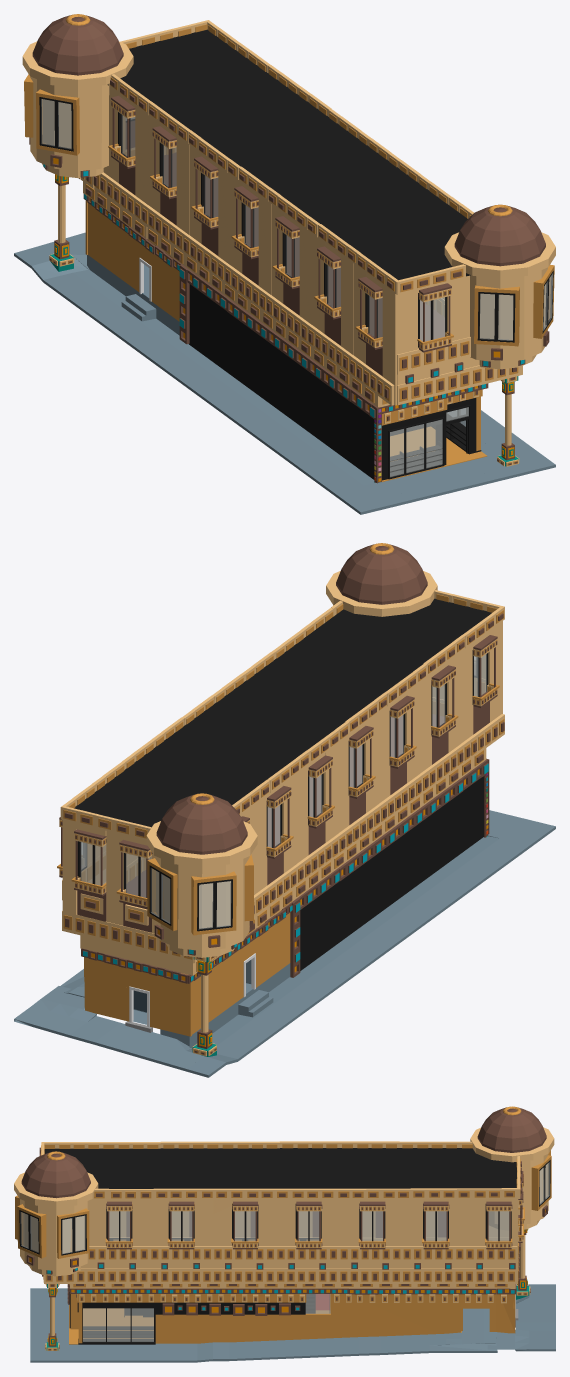
File: Level1_cornerstore.fbx
3 views of the same model, one above another, from view 1: azimuth 30°, elevation 25°; view 2: azimuth 150°, elevation 25°; view 3: azimuth 270°, elevation 25° (orthographic). The views are drawn at different scales.
Parts seen in each view (by area): view 1: group1848195380; view 2: group1848195380; view 3: group1848195380.
Part boxes in pixels (bbox=[...]): group1848195380: bbox=[14, 14, 555, 514]; group1848195380: bbox=[14, 543, 555, 1077]; group1848195380: bbox=[14, 1106, 555, 1362].
Size of the model in its own units: 258 by 297 by 733.
